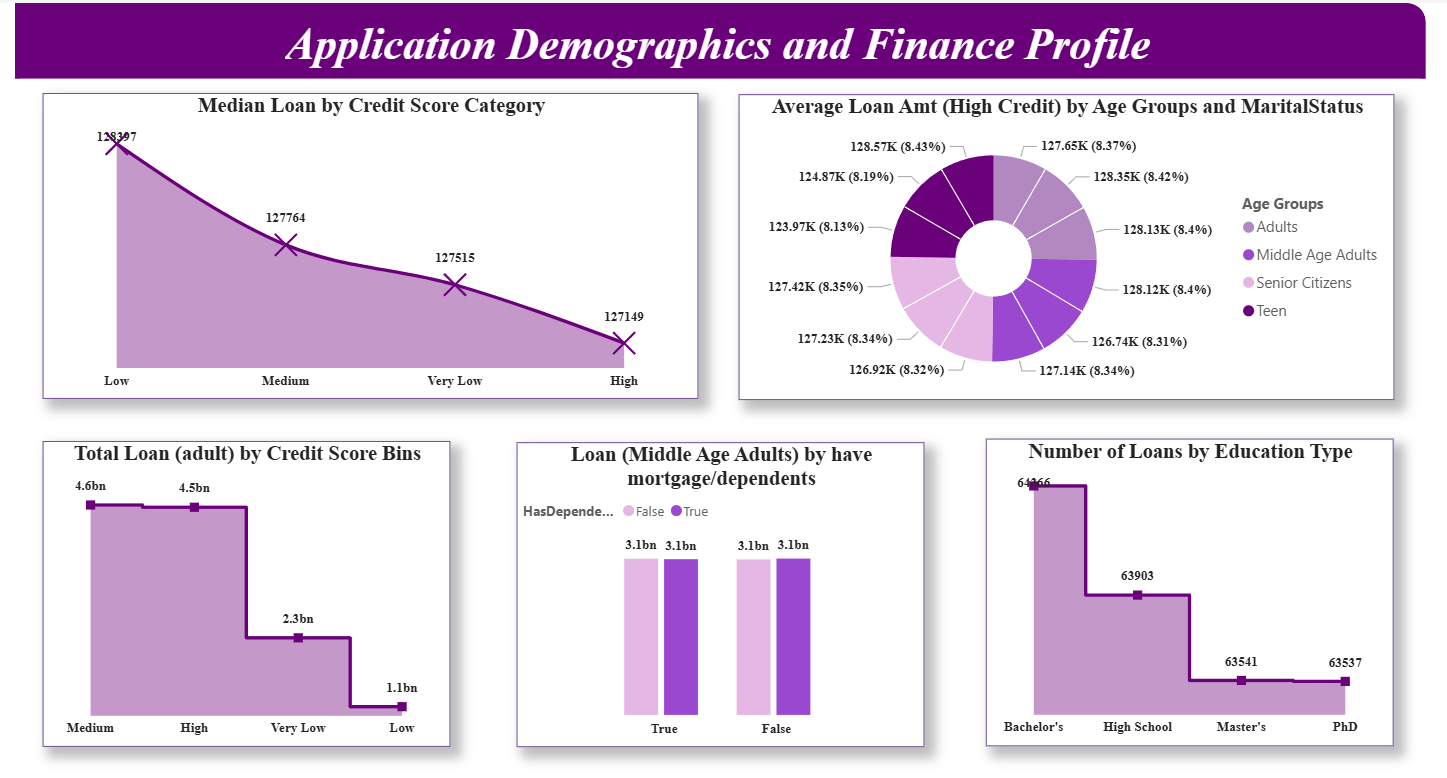

This screenshot's page, from the dashboard's own definition file:
{"tool":"powerbi","page":{"name":"Application Demographics and Finance Profile","canvas":[1280,720],"ordinal":1},"visuals":[{"type":"shape","box":[0,0,1280,68.8],"z":0},{"type":"lineChart","title":"Median Loan by Credit Score Category","fields":{"Category":["Loan_default.Credit Score Bins"],"Y":["Measures Table 2.Median by Credit score bins"]},"box":[25,81.9,595.2,277.7],"z":1000},{"type":"donutChart","fields":{"Y":["Measures Table 2.Average Loan Amt (High Credit)"],"Series":["Loan_default.MaritalStatus"],"Category":["Loan_default.Age Groups"]},"box":[656.2,82.5,595,277.5],"z":2000},{"type":"lineChart","title":"Total Loan (adult) by Credit Score Bins","fields":{"Y":["Measures Table 2.Total Loan (Credit Bins)"],"Category":["Loan_default.Credit Score Bins"]},"box":[25,397.5,370,277.5],"z":3000},{"type":"clusteredColumnChart","title":"Loan (Middle Age Adults) by have mortgage/dependents","fields":{"Y":["Measures Table 2.Total Loan (Middle Age Adults)"],"Category":["Loan_default.HasMortgage"],"Series":["Loan_default.HasDependents"]},"box":[455,398.8,370,276.2],"z":4000},{"type":"lineChart","title":"Number of Loans by Education Type ","fields":{"Y":["Measures Table 2.Loans by Education type"],"Category":["Loan_default.Education"]},"box":[881.2,395,370,278.8],"z":5000}]}

Visuals, with their boxes in screenshot pixels (x1, y1, x2, y2):
shape: rect(11, 0, 1422, 76)
"Median Loan by Credit Score Category" lineChart: rect(39, 90, 695, 396)
donutChart - Measures Table 2.Average Loan Amt (High Credit) x Loan_default.MaritalStatus: rect(735, 91, 1391, 397)
"Total Loan (adult) by Credit Score Bins" lineChart: rect(39, 438, 447, 744)
"Loan (Middle Age Adults) by have mortgage/dependents" clusteredColumnChart: rect(513, 440, 921, 744)
"Number of Loans by Education Type " lineChart: rect(983, 435, 1391, 743)
